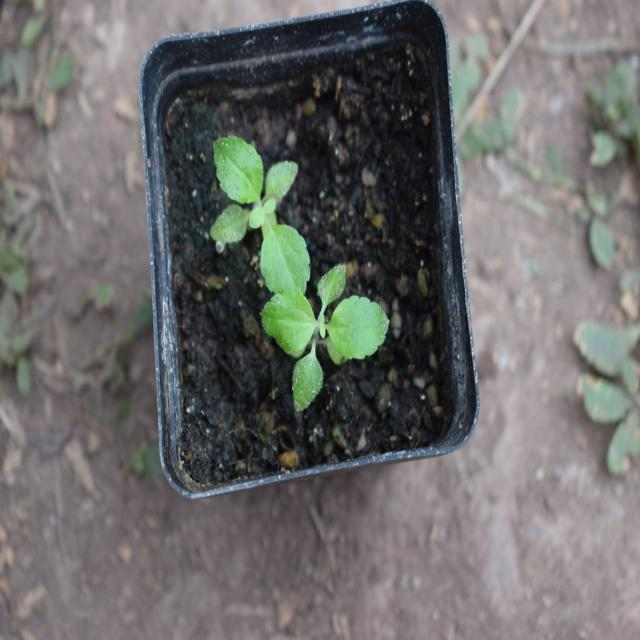billygoat_weed: (202, 123, 331, 316), (263, 259, 389, 395)
